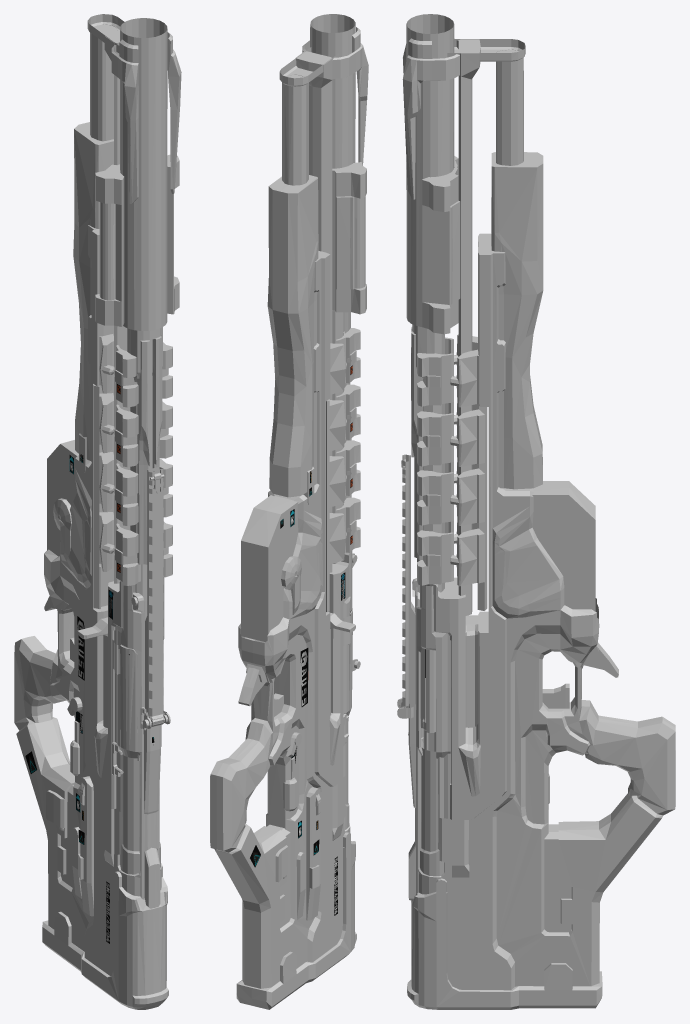
The model's file is Gauss.obj.
3 views of the same model, side by side, from view 1: azimuth 30°, elevation 25°; view 2: azimuth 150°, elevation 25°; view 3: azimuth 270°, elevation 25° (orthographic). The views are drawn at different scales.
Parts seen in each view (by area): view 1: Model::0002_gauss_v2_fp, Model::0000_gauss_v2_fp, Model::0003_gauss_v2_fp; view 2: Model::0002_gauss_v2_fp, Model::0000_gauss_v2_fp, Model::0003_gauss_v2_fp; view 3: Model::0002_gauss_v2_fp, Model::0000_gauss_v2_fp.
Boxes of the visible parts, <box> form: Model::0002_gauss_v2_fp: <box>14,14,181,1009</box>; Model::0000_gauss_v2_fp: <box>77,229,172,899</box>; Model::0003_gauss_v2_fp: <box>25,384,154,943</box>; Model::0002_gauss_v2_fp: <box>210,14,368,1009</box>; Model::0000_gauss_v2_fp: <box>314,251,360,840</box>; Model::0003_gauss_v2_fp: <box>250,365,352,915</box>; Model::0002_gauss_v2_fp: <box>402,14,675,1009</box>; Model::0000_gauss_v2_fp: <box>397,233,506,894</box>.
Size of the model in its own units: 0.129 by 1.45 by 0.3744.
